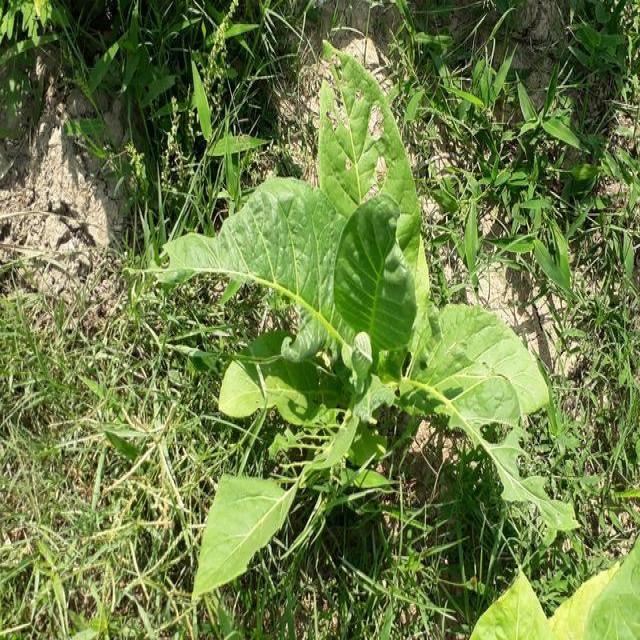crop: (146, 41, 582, 610)
